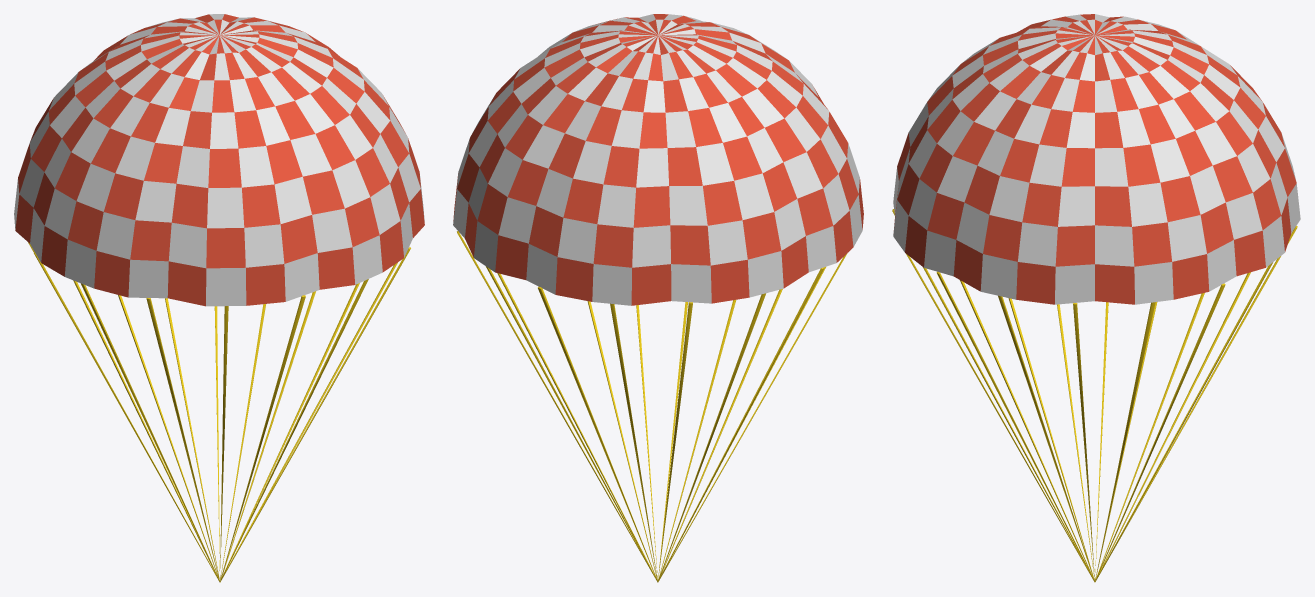
Rendered from Parachute.fbx.
3 views of the same model, side by side, from view 1: azimuth 30°, elevation 25°; view 2: azimuth 150°, elevation 25°; view 3: azimuth 270°, elevation 25° (orthographic).
Parts seen in each view (by area): view 1: Parachute-top, robes; view 2: Parachute-top, robes; view 3: Parachute-top, robes.
Boxes of the visible parts, x1,y1,x2,y2 form: Parachute-top: [14, 14, 424, 306]; robes: [28, 242, 410, 582]; Parachute-top: [453, 14, 863, 305]; robes: [457, 231, 847, 582]; Parachute-top: [893, 14, 1300, 304]; robes: [892, 209, 1297, 582].
Bounding box in the file's own units: 199 × 294 × 199.
